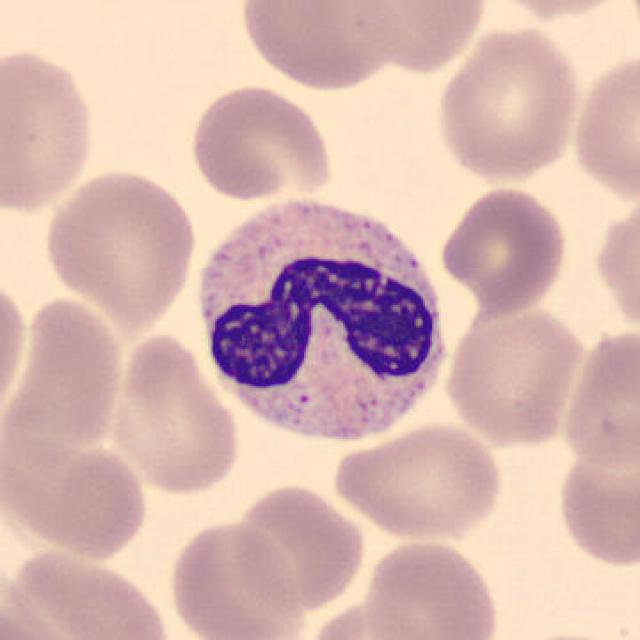Neutrophil: (188, 189, 457, 460)
RBC: (39, 166, 199, 333), (432, 21, 585, 187), (105, 326, 245, 499), (441, 296, 587, 450), (330, 420, 507, 544), (7, 291, 128, 455), (1, 434, 154, 562), (226, 480, 368, 616), (185, 81, 338, 205), (0, 42, 100, 219), (437, 183, 571, 314), (163, 516, 304, 640), (4, 545, 176, 640), (234, 0, 405, 93), (359, 536, 503, 640), (553, 423, 640, 573), (558, 324, 640, 471), (567, 46, 640, 206), (340, 0, 492, 74), (590, 200, 640, 332), (300, 597, 444, 640), (0, 268, 30, 430), (474, 0, 636, 21), (617, 0, 640, 44)
